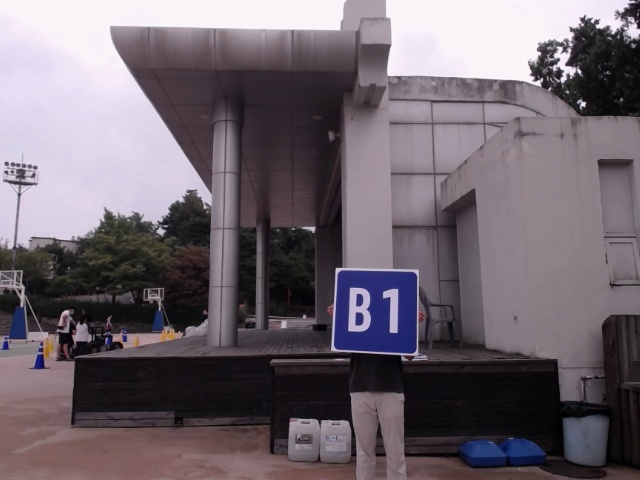delivery_b1: (333, 268, 418, 355)
